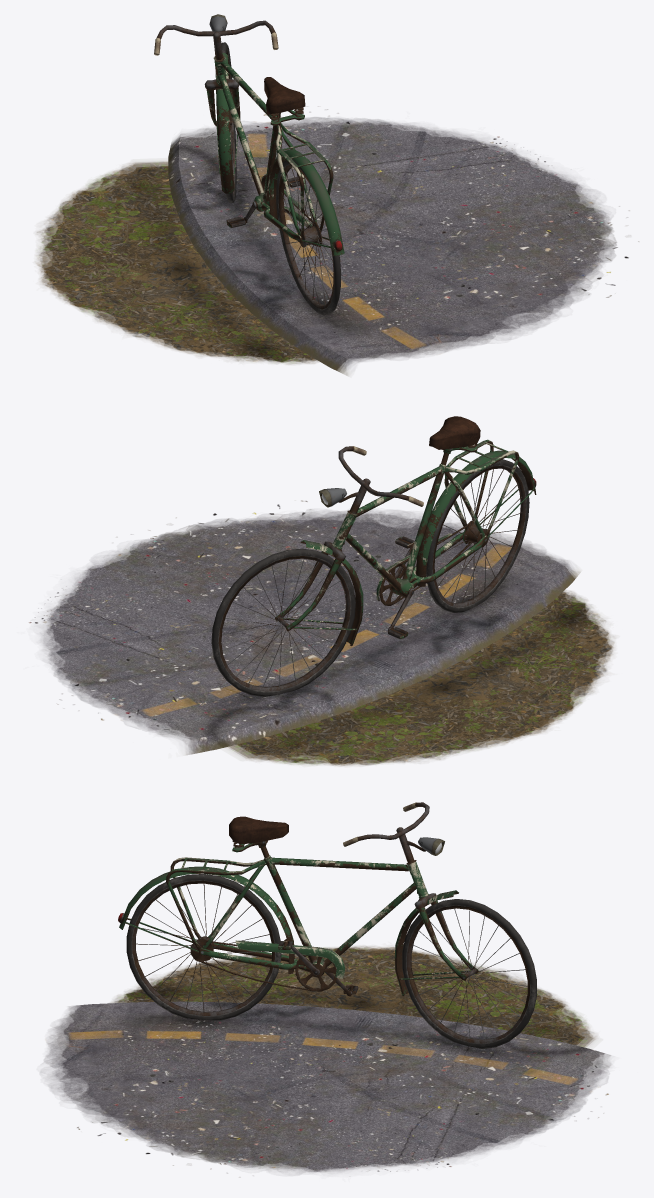
The model's file is bicycle.glb.
The picture shows the model from 3 angles, top to bottom: view 1: azimuth 30°, elevation 25°; view 2: azimuth 150°, elevation 25°; view 3: azimuth 270°, elevation 25°; orthographic projection. The views are drawn at different scales.
Parts seen in each view (by area): view 1: Circle.002, Circle, Object_3; view 2: Circle.002, Circle, Object_3; view 3: Circle.002, Object_3, Circle.
Boxes of the visible parts, <box> form: Circle.002: <box>168,106,639,375</box>; Circle: <box>36,161,318,364</box>; Object_3: <box>154,14,344,315</box>; Circle.002: <box>29,500,580,754</box>; Circle: <box>227,590,614,766</box>; Object_3: <box>211,416,536,696</box>; Circle.002: <box>40,1001,611,1177</box>; Object_3: <box>118,802,536,1048</box>; Circle: <box>110,946,596,1047</box>.
Size of the model in its own units: 4.68 by 1.81 by 4.8.
4 materials, 3 textured.
